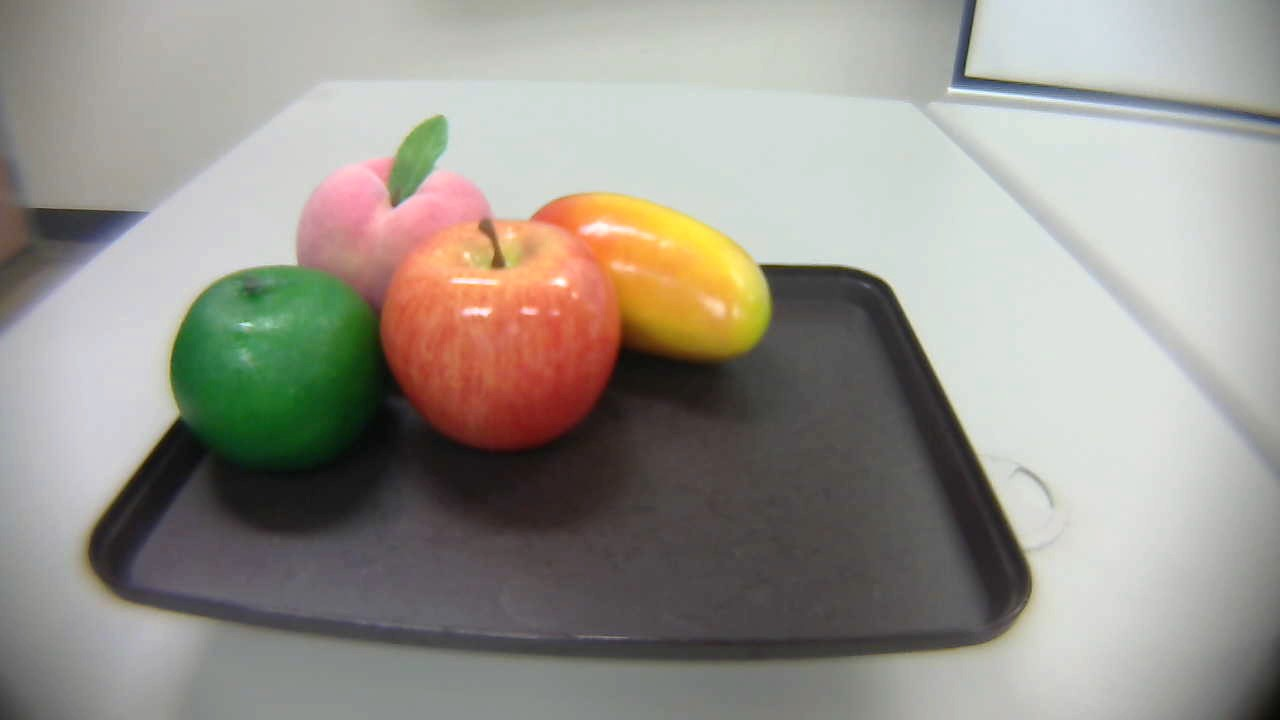green orange: (163, 261, 390, 464)
peach: (290, 103, 495, 296)
red apple: (377, 214, 622, 453)
red mango: (530, 184, 793, 364)
